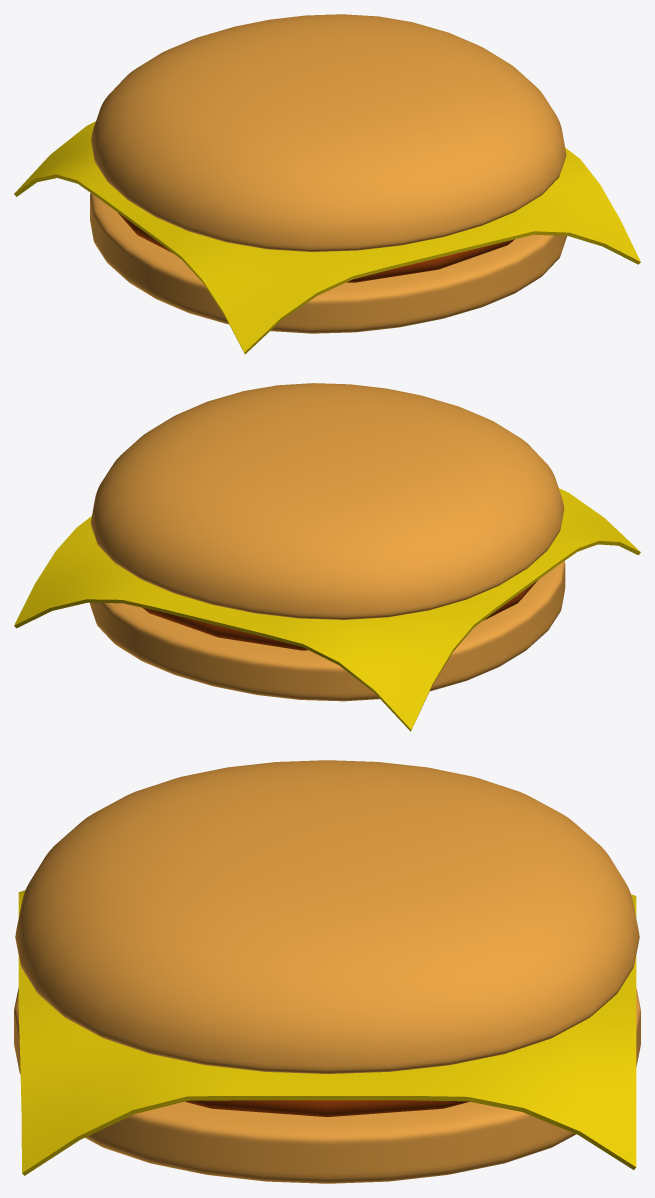
The model's file is humburger.glb.
3 renders of one model, top to bottom at view 1: azimuth 30°, elevation 25°; view 2: azimuth 150°, elevation 25°; view 3: azimuth 270°, elevation 25°, orthographic. The views are drawn at different scales.
Visible parts, largest first — view 1: Cube.002, Plane, Cube, Cube.001; view 2: Cube.002, Plane, Cube, Cube.001; view 3: Cube.002, Plane, Cube, Cube.001.
Part boxes in pixels (x1=…): Cube.002: x1=91, y1=14, x2=566, y2=251; Plane: x1=14, y1=121, x2=640, y2=354; Cube: x1=90, y1=193, x2=566, y2=333; Cube.001: x1=118, y1=213, x2=514, y2=282; Cube.002: x1=90, y1=383, x2=564, y2=619; Plane: x1=14, y1=488, x2=640, y2=731; Cube: x1=90, y1=561, x2=565, y2=701; Cube.001: x1=142, y1=580, x2=537, y2=650; Cube.002: x1=15, y1=760, x2=639, y2=1073; Plane: x1=18, y1=890, x2=636, y2=1175; Cube: x1=14, y1=988, x2=640, y2=1183; Cube.001: x1=185, y1=1100, x2=469, y2=1116.
Size of the model in its own units: 9.05 by 3.79 by 9.05.
